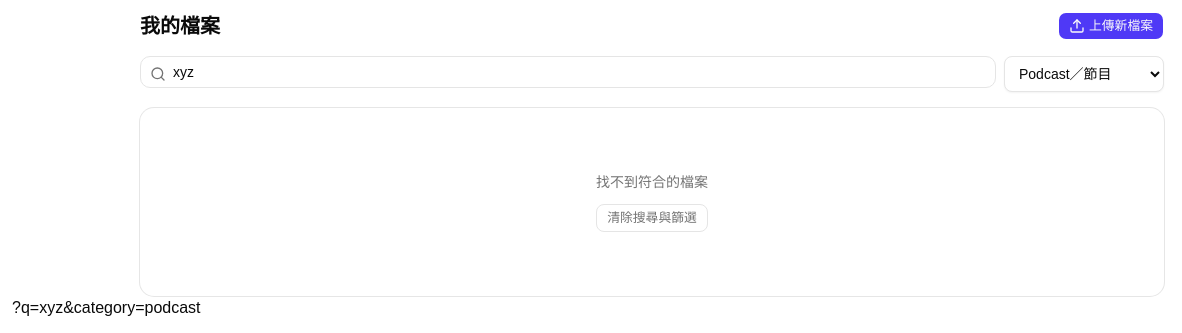
JobsPage search and category filter › says when nothing matches, and clears the search and filter
The image size is (1182, 333).
Expected: the text "找不到符合的檔案" is shown, 596,172 -> 708,192
Click the button "清除搜尋與篩選" at [652, 218], box 596,204 -> 708,232
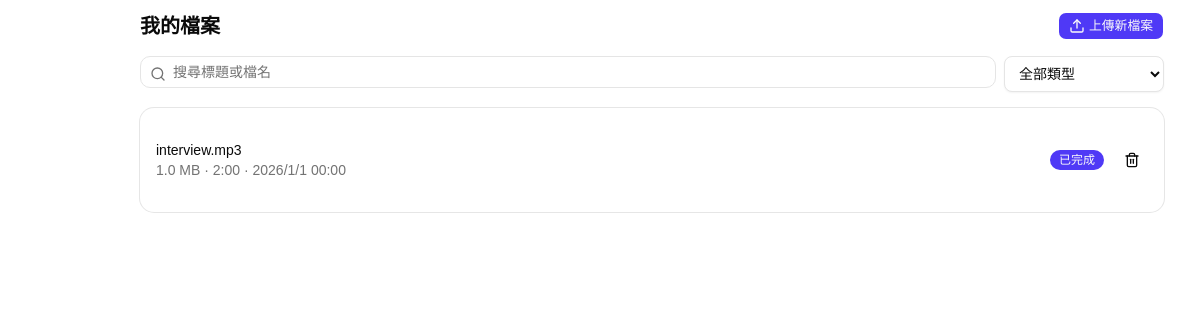
Expected: the search field labelled "搜尋標題或檔名" is empty, 140,56 -> 996,88
